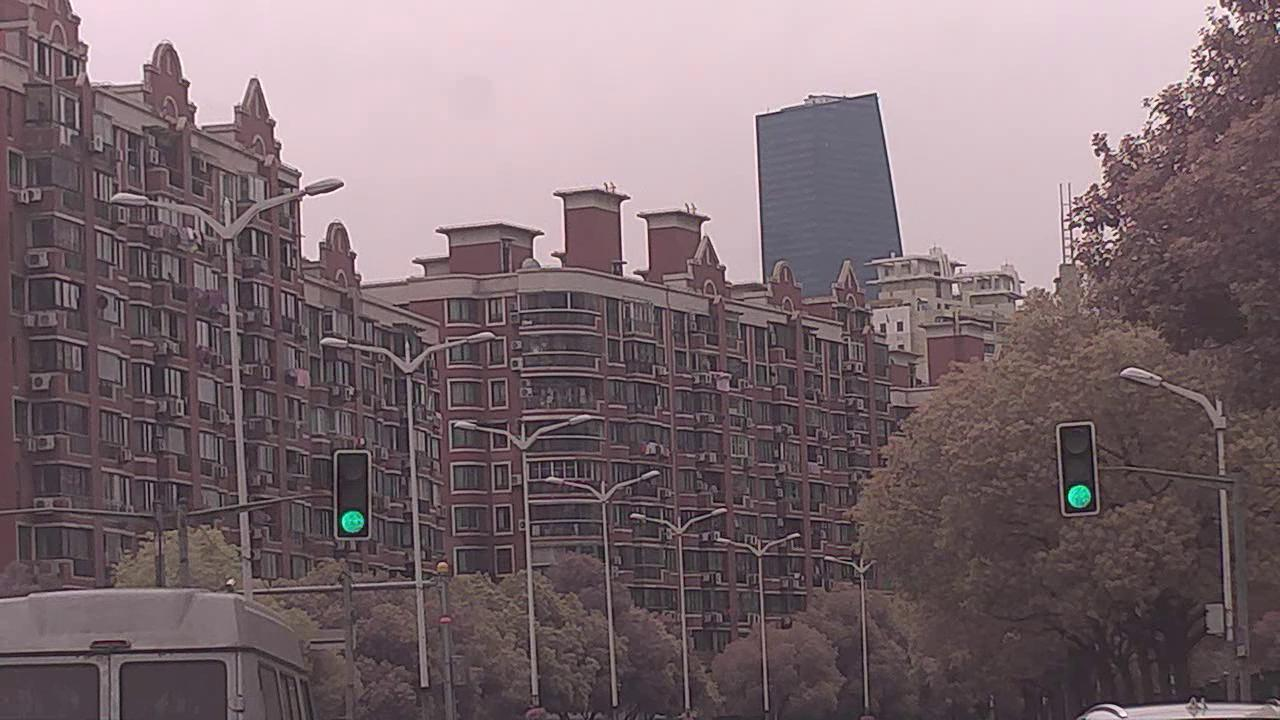traffic_light: (1062, 421, 1099, 517), (339, 453, 369, 542)
